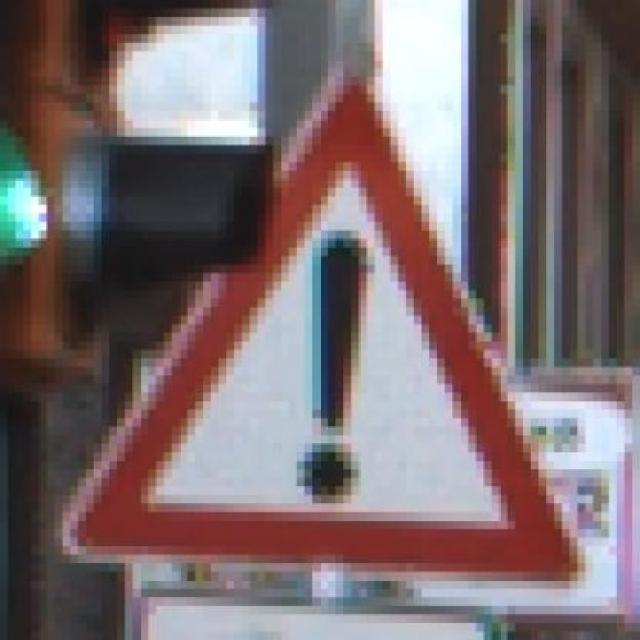Attention Please-: (59, 45, 598, 600)
